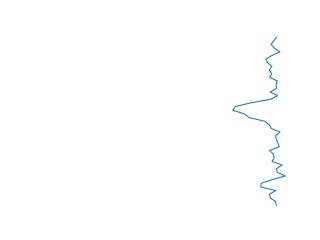interdistributaryEstuary: (229, 37, 290, 208)
